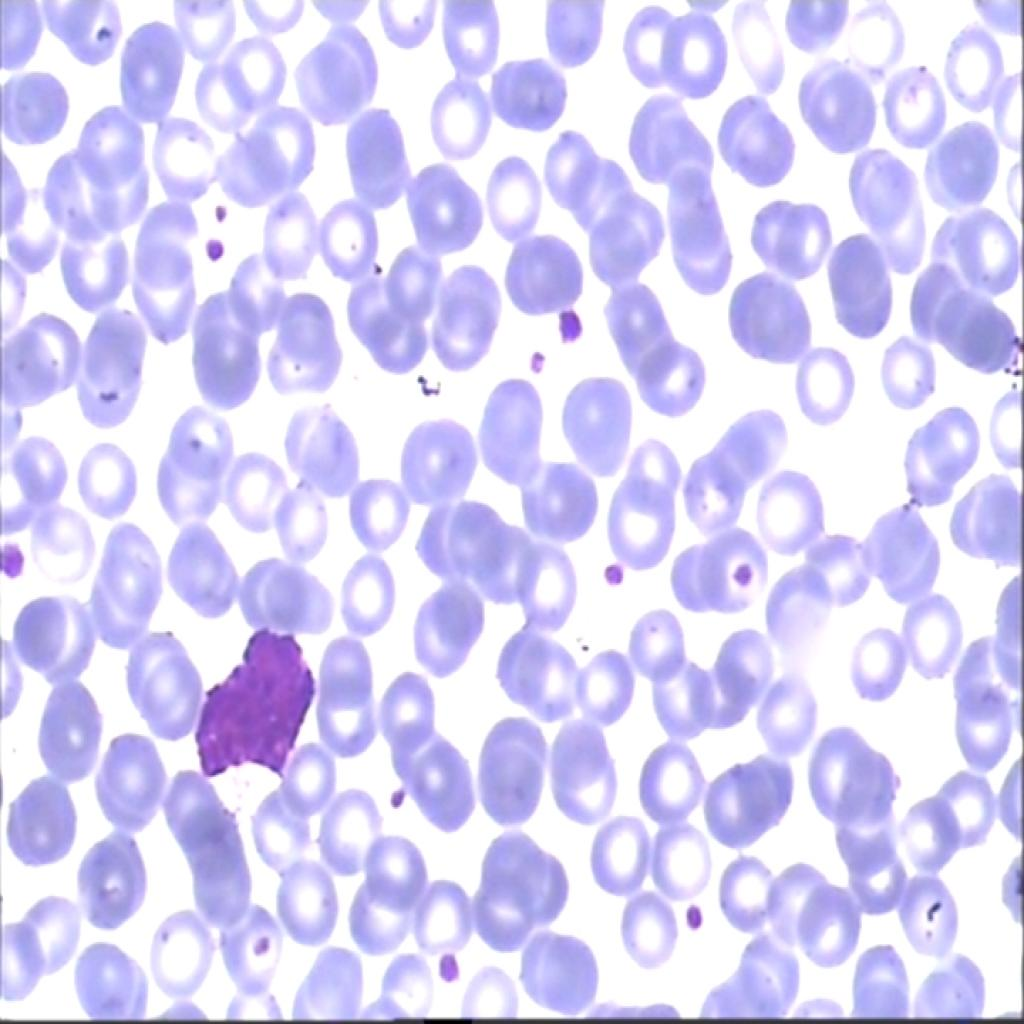Basofil: (172, 619, 319, 791)
Platelet: (549, 297, 593, 359), (720, 549, 762, 608), (421, 940, 472, 988), (681, 889, 717, 949), (198, 237, 248, 279), (196, 187, 236, 238), (0, 547, 38, 583), (598, 554, 624, 602), (520, 340, 548, 380), (387, 782, 418, 818), (250, 924, 276, 960)
